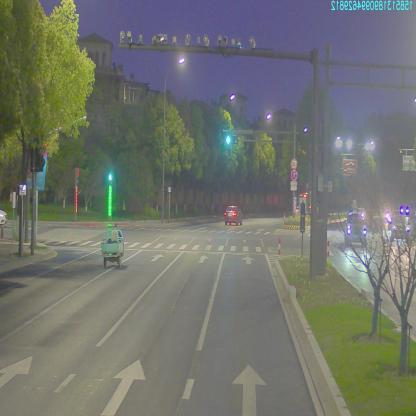traffic-light: (225, 135, 237, 143)
